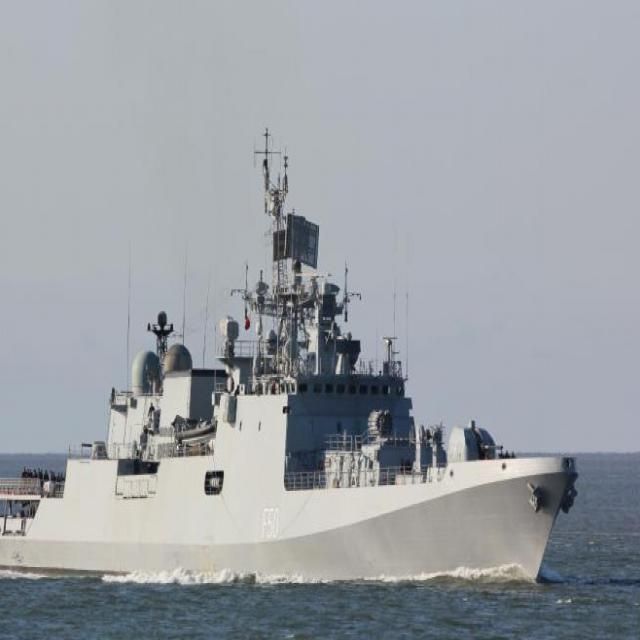Fragata: (1, 142, 584, 592)
